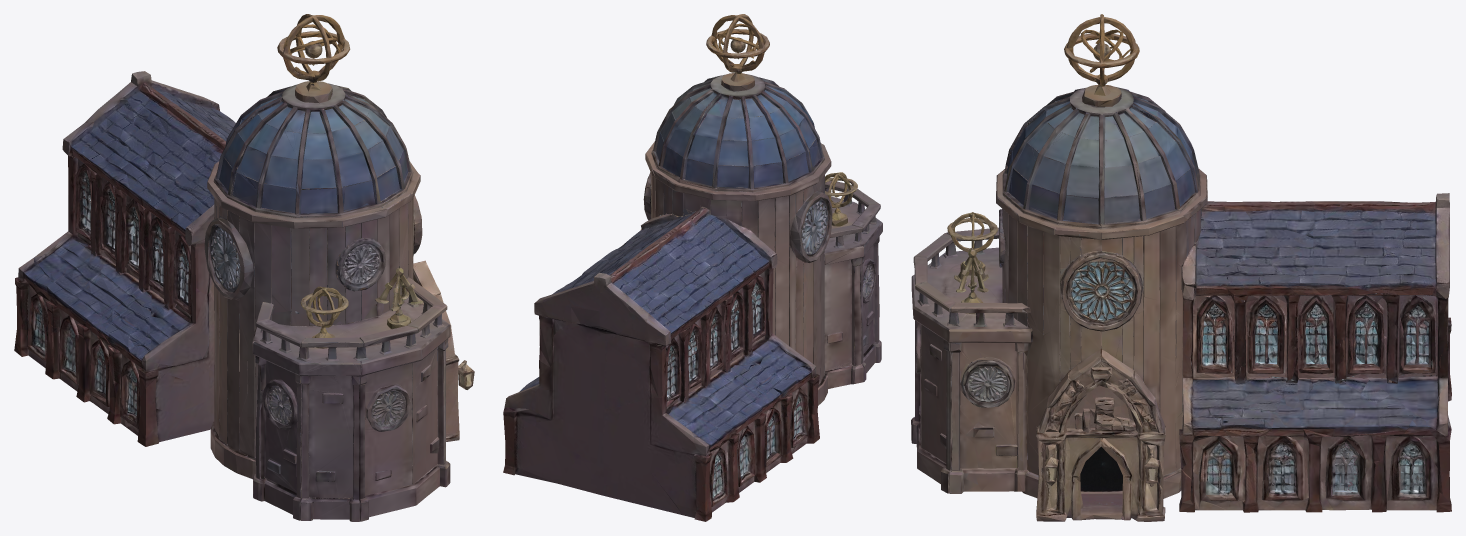
The model's file is academy_t3.glb.
3 renders of one model, left to right at view 1: azimuth 30°, elevation 25°; view 2: azimuth 150°, elevation 25°; view 3: azimuth 270°, elevation 25°, orthographic. The views are drawn at different scales.
Visible parts, largest first — view 1: tripo_part_9, tripo_part_0, tripo_part_13, tripo_part_15, tripo_part_14, tripo_part_8, tripo_part_3, tripo_part_2, tripo_part_1; view 2: tripo_part_13, tripo_part_9, tripo_part_15, tripo_part_0, tripo_part_14, tripo_part_8, tripo_part_1; view 3: tripo_part_9, tripo_part_13, tripo_part_0, tripo_part_15, tripo_part_16, tripo_part_3, tripo_part_7, tripo_part_8, tripo_part_4, tripo_part_12, tripo_part_18, tripo_part_17 (+1 smaller).
Part boxes in pixels (box(x1,y1,x2,y2)): tripo_part_9: box(204, 81, 420, 457); tripo_part_0: box(210, 266, 450, 521); tripo_part_13: box(14, 156, 314, 446); tripo_part_15: box(62, 71, 235, 246); tripo_part_14: box(75, 159, 191, 314); tripo_part_8: box(277, 14, 350, 87); tripo_part_3: box(374, 260, 474, 441); tripo_part_2: box(335, 238, 385, 290); tripo_part_1: box(300, 286, 348, 325); tripo_part_13: box(503, 268, 819, 521); tripo_part_9: box(645, 72, 832, 387); tripo_part_15: box(534, 208, 777, 345); tripo_part_0: box(677, 181, 882, 405); tripo_part_14: box(666, 275, 766, 407); tripo_part_8: box(706, 14, 769, 74); tripo_part_1: box(825, 172, 857, 207); tripo_part_9: box(996, 85, 1207, 498); tripo_part_13: box(1179, 227, 1451, 512); tripo_part_0: box(911, 227, 1176, 505); tripo_part_15: box(1182, 193, 1449, 311); tripo_part_16: box(1194, 293, 1447, 383); tripo_part_3: box(1036, 349, 1165, 521); tripo_part_7: box(1060, 251, 1143, 331); tripo_part_8: box(1064, 14, 1139, 86); tripo_part_4: box(1080, 446, 1122, 506); tripo_part_12: box(1266, 441, 1296, 493); tripo_part_18: box(1398, 440, 1425, 494); tripo_part_17: box(1331, 441, 1358, 496).
Size of the model in its own units: 0.5158 by 0.7962 by 0.874.
Materials: 17 (17 with a texture image).
